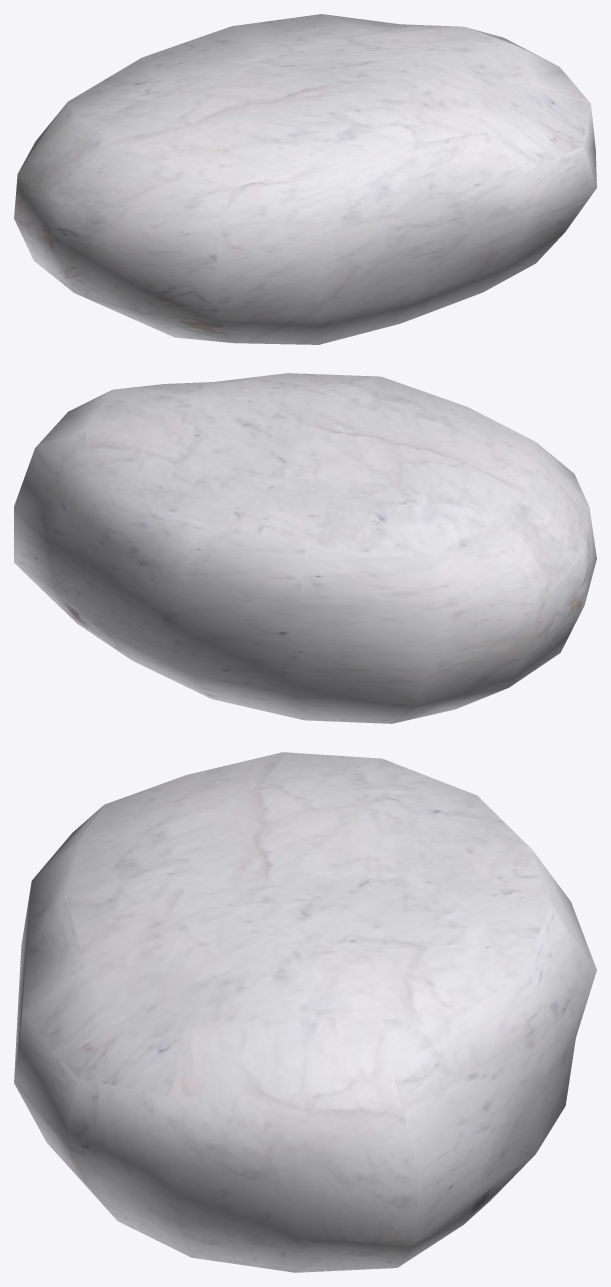
Rendered from RockSet.dae.
3 renders of one model, top to bottom at view 1: azimuth 30°, elevation 25°; view 2: azimuth 150°, elevation 25°; view 3: azimuth 270°, elevation 25°, orthographic. The views are drawn at different scales.
Parts seen in each view (by area): view 1: Cube_001; view 2: Cube_001; view 3: Cube_001.
Part boxes in pixels (bbox=[...]): Cube_001: bbox=[14, 14, 596, 344]; Cube_001: bbox=[14, 373, 596, 723]; Cube_001: bbox=[14, 752, 596, 1272].
Bounding box in the file's own units: 0.7756 × 0.561 × 0.3243.
